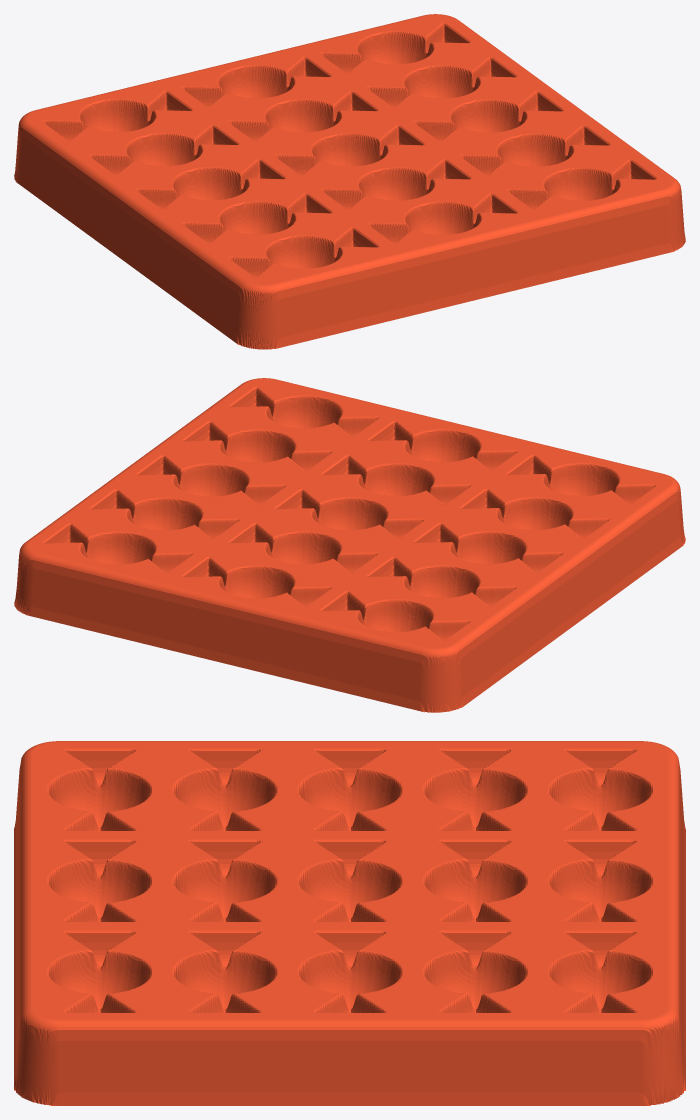
File: mold.glb
3 renders of one model, top to bottom at view 1: azimuth 30°, elevation 25°; view 2: azimuth 150°, elevation 25°; view 3: azimuth 270°, elevation 25°, orthographic. The views are drawn at different scales.
Parts seen in each view (by area): view 1: geometry_0; view 2: geometry_0; view 3: geometry_0.
Boxes of the visible parts, bbox=[...] form: geometry_0: bbox=[14, 14, 685, 349]; geometry_0: bbox=[14, 378, 685, 712]; geometry_0: bbox=[14, 741, 685, 1105].
Bounding box in the file's own units: 0.1392 × 0.0175 × 0.1351.
